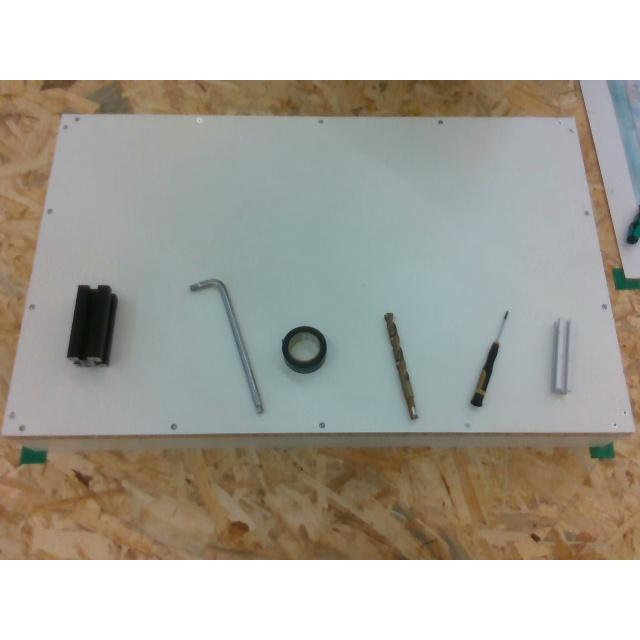AllenKey: (189, 278, 265, 414)
Drill: (386, 312, 418, 420)
S40_40_B: (66, 284, 118, 368)
S40_40_G: (550, 317, 572, 393)
